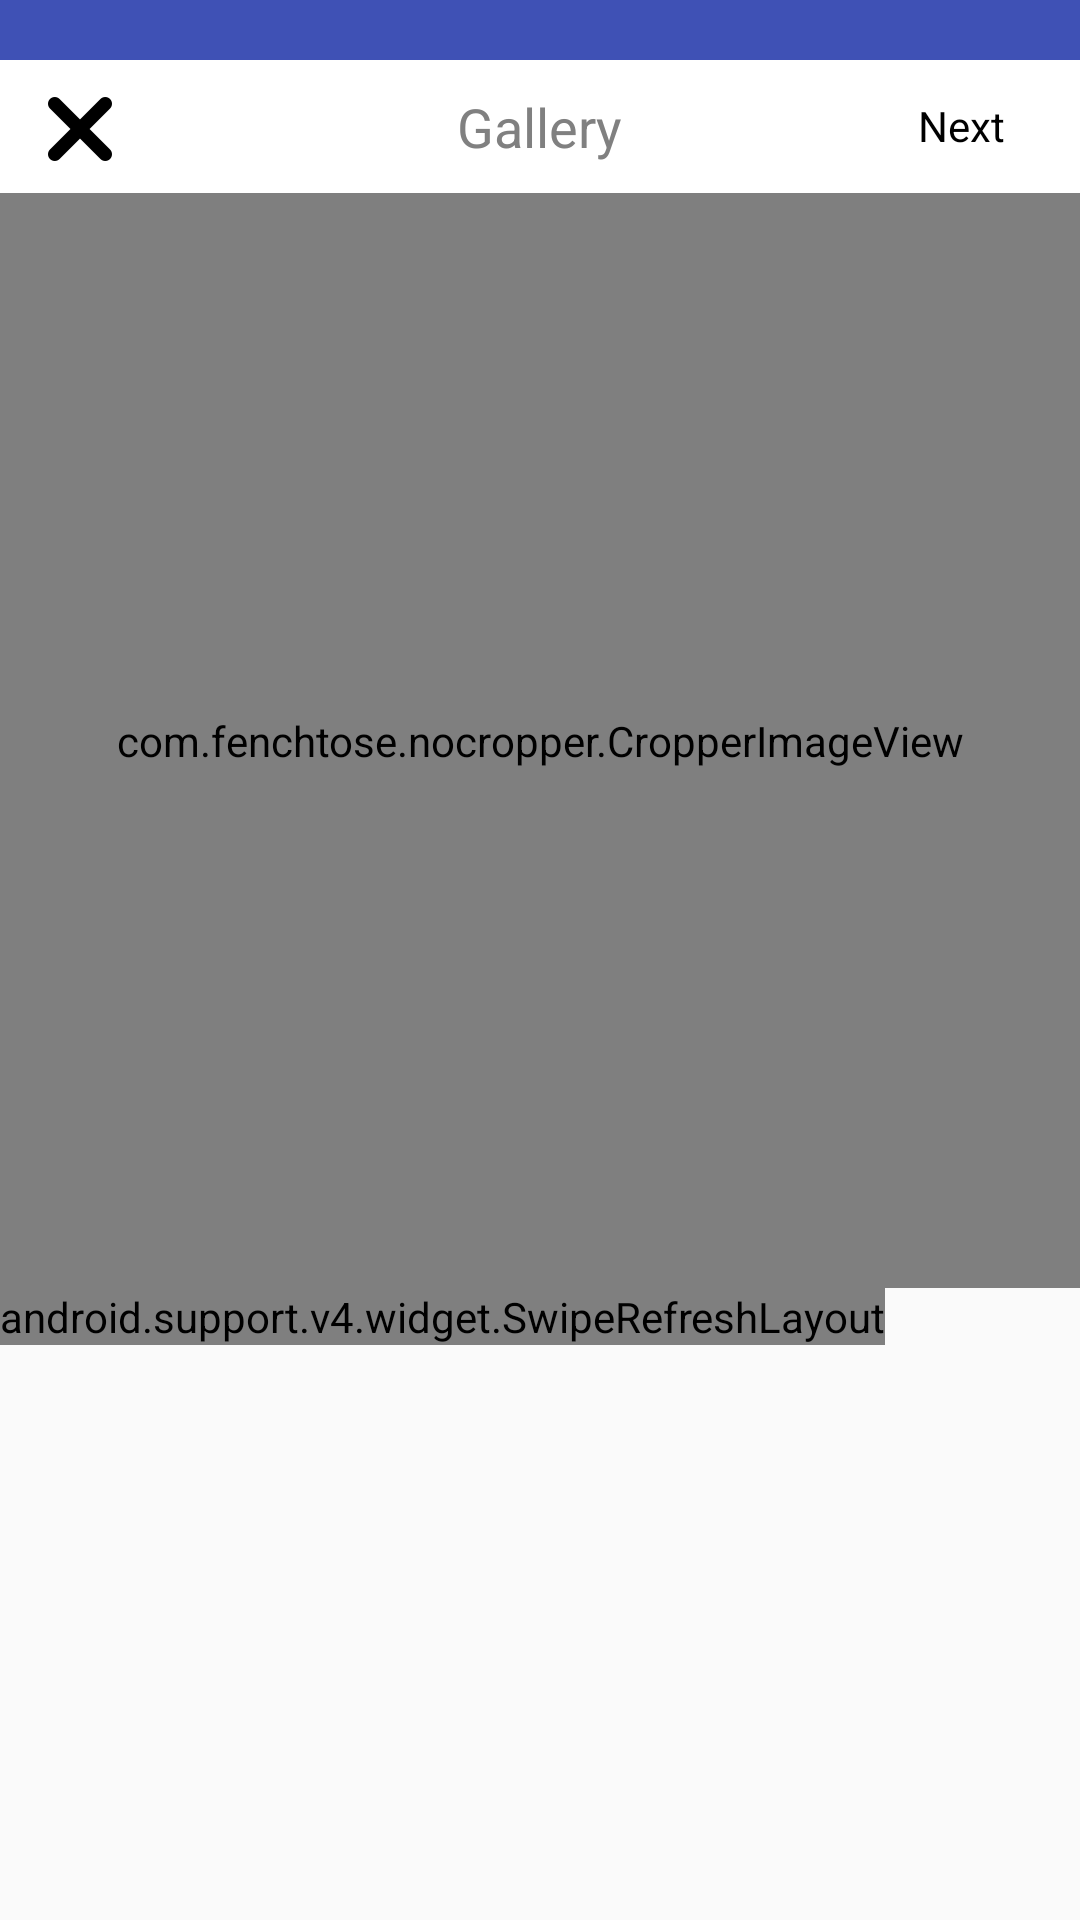

Icons on this 1080x1920 Android screen, each with its box as (x1, y1, x2, y2):
close: (48, 97, 112, 161)
